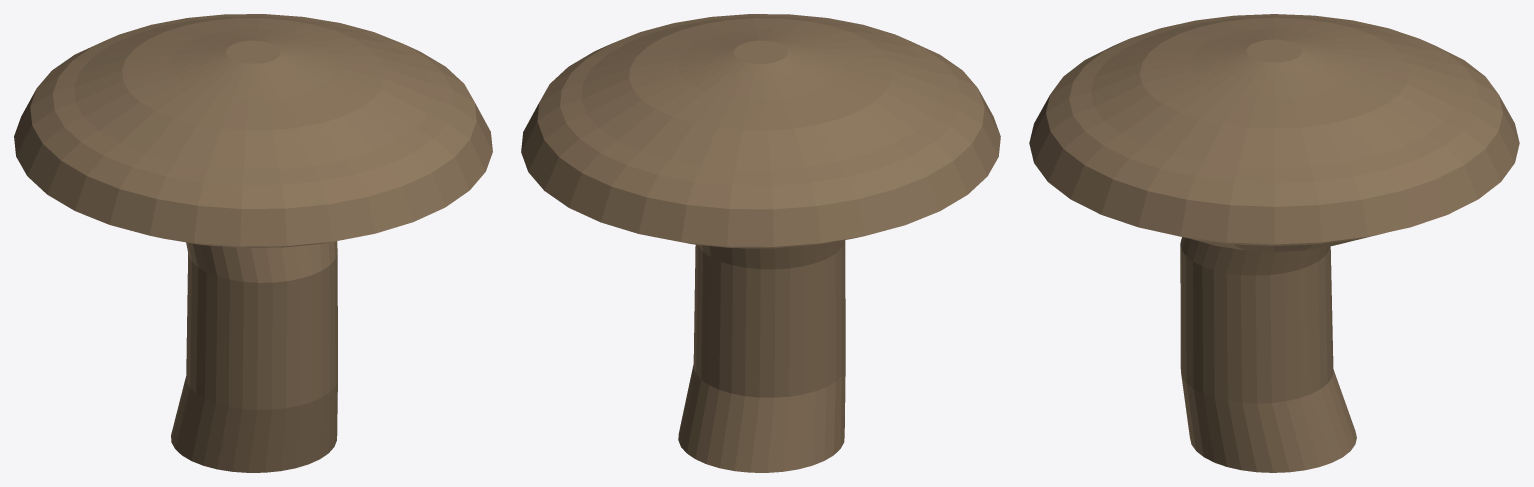
The model's file is mushroom.fbx.
3 renders of one model, left to right at view 1: azimuth 30°, elevation 25°; view 2: azimuth 150°, elevation 25°; view 3: azimuth 270°, elevation 25°, orthographic.
Parts seen in each view (by area): view 1: Cylinder; view 2: Cylinder; view 3: Cylinder.
Boxes of the visible parts, x1,y1,x2,y2 form: Cylinder: (14,14,492,472); Cylinder: (521,14,1000,472); Cylinder: (1029,14,1519,472).
Size of the model in its own units: 285 by 254 by 292.
